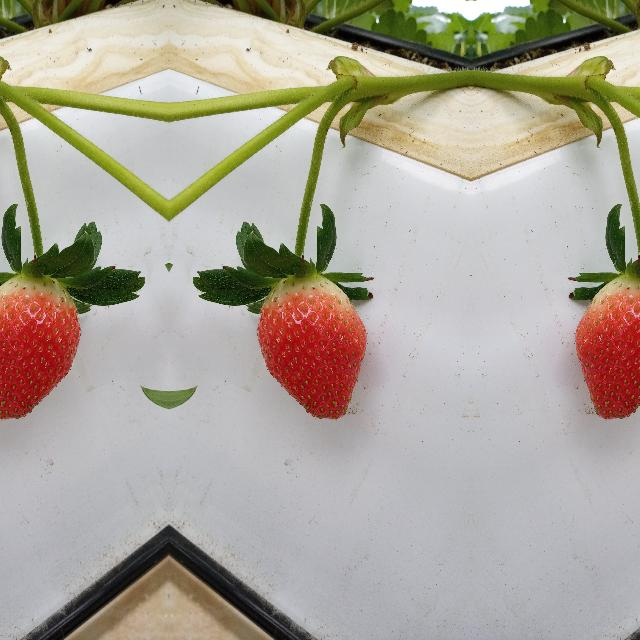Health_100: (255, 273, 367, 421), (0, 273, 81, 421), (574, 273, 640, 421)
